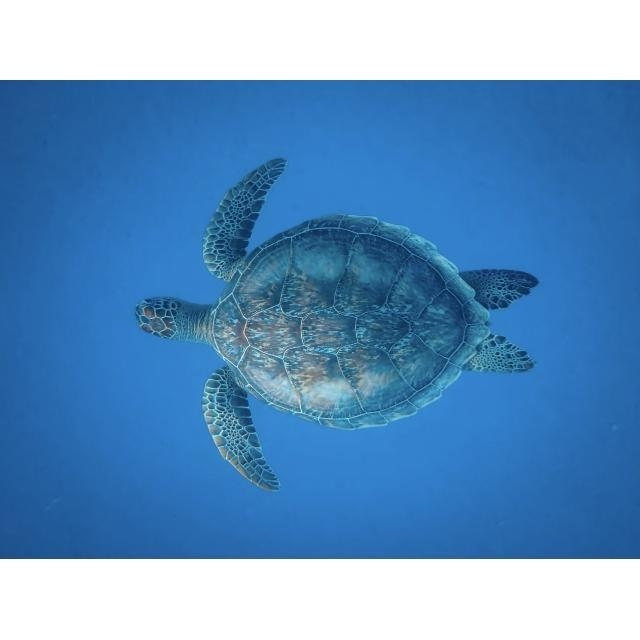turtle: (132, 157, 542, 492)
